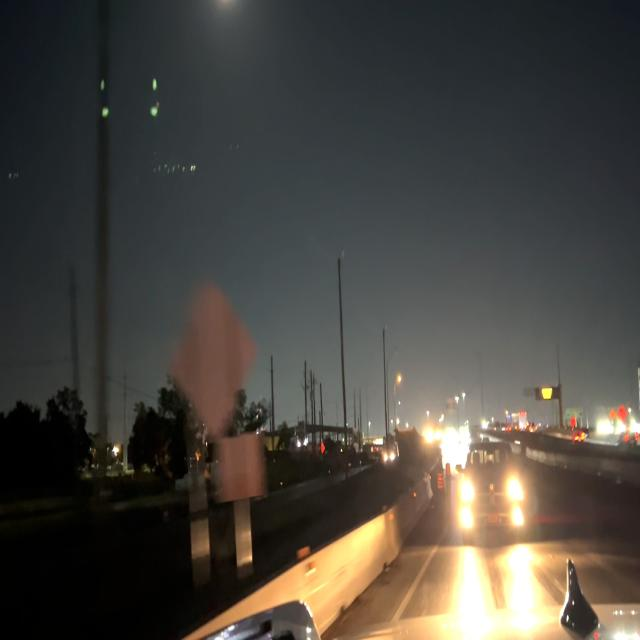back-of-sign: (170, 287, 258, 434), (215, 436, 266, 501)
